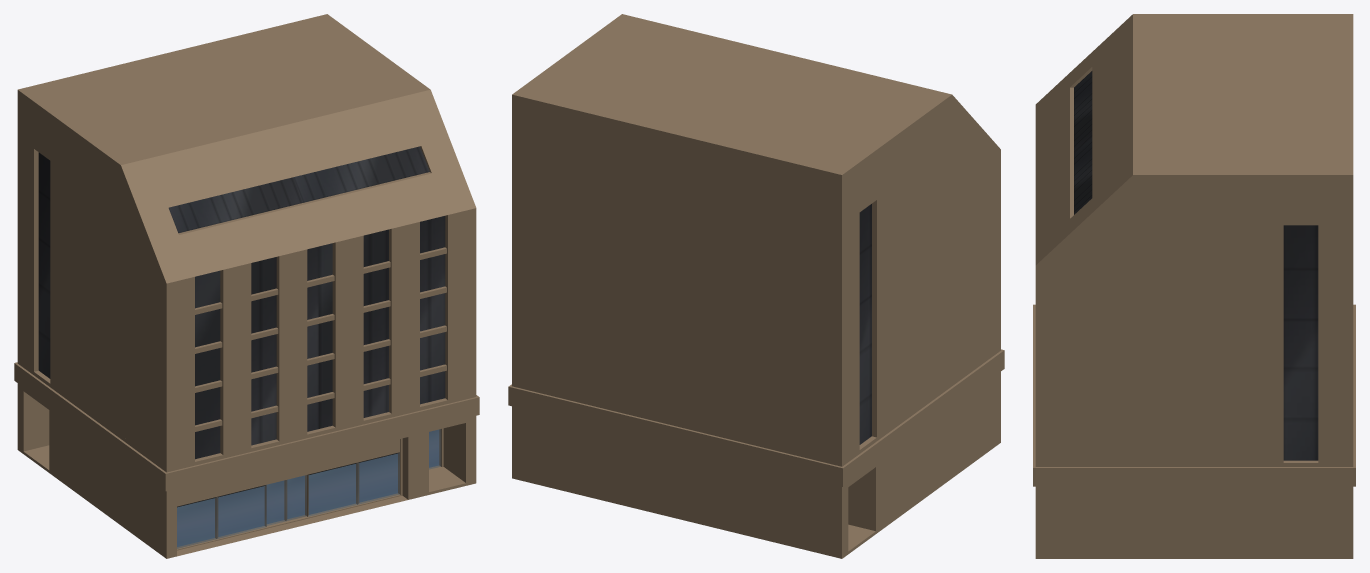
Rendered from Bld_Building_AA.fbx.
The picture shows the model from 3 angles, left to right: view 1: azimuth 30°, elevation 25°; view 2: azimuth 150°, elevation 25°; view 3: azimuth 270°, elevation 25°; orthographic projection. The views are drawn at different scales.
Visible parts, largest first — view 1: Bld_Building_AA; view 2: Bld_Building_AA; view 3: Bld_Building_AA.
Part boxes in pixels (<box>): Bld_Building_AA: <box>14,14,479,558</box>; Bld_Building_AA: <box>508,14,1004,558</box>; Bld_Building_AA: <box>1033,14,1355,558</box>.
Size of the model in its own units: 1825 by 2000 by 1525.
